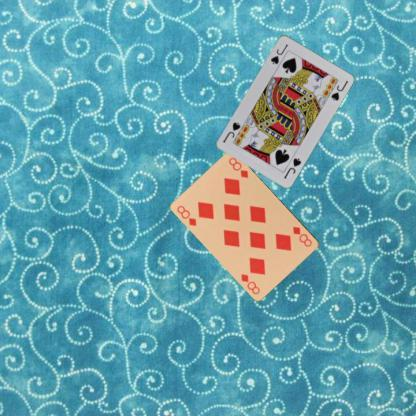8d: (290, 223, 314, 248), (174, 203, 198, 228)
Js: (268, 41, 290, 66), (280, 155, 302, 180)
